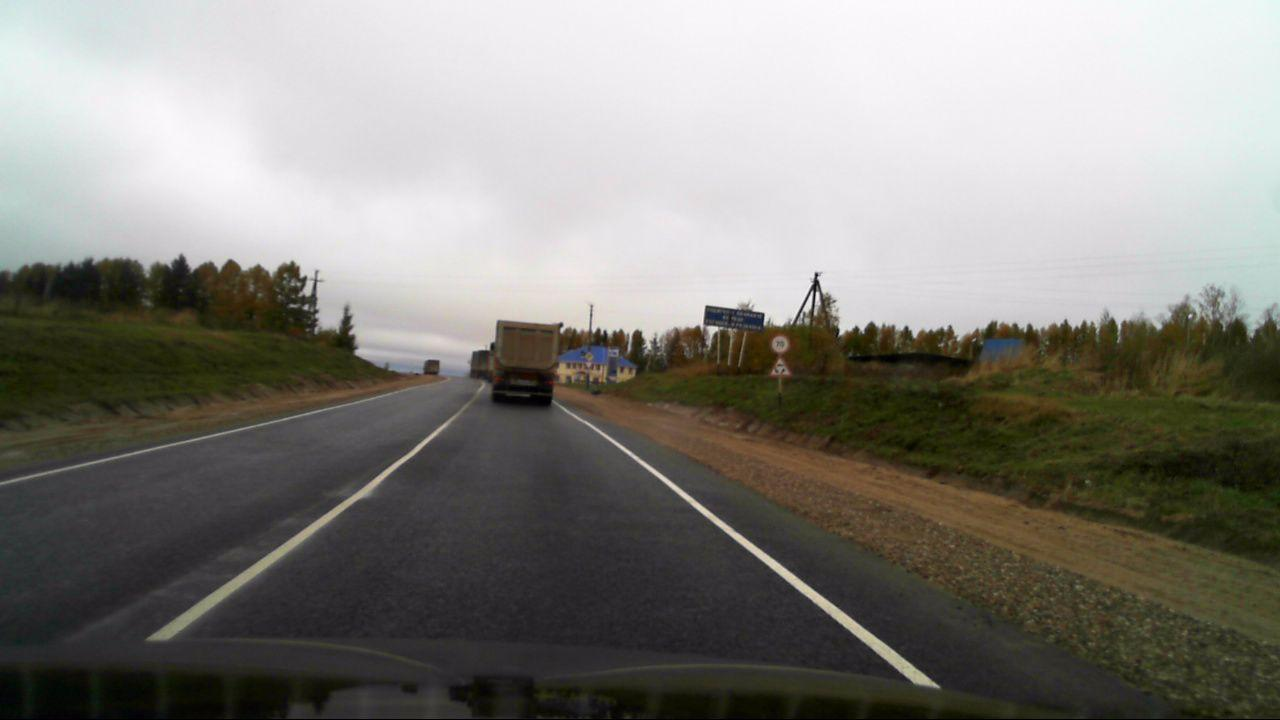1_7: (767, 356, 791, 377)
3_24: (769, 334, 792, 353)
